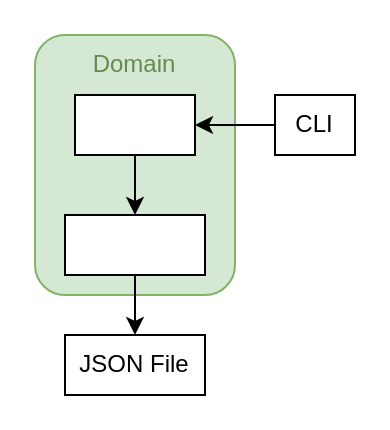
Image size: 390x430. Some labels were removed from this diagram. Here are the shapes that lost their labels. From the top down, the box of each, then its label:
(73, 93, 195, 155): Service
(63, 213, 205, 275): Repository
